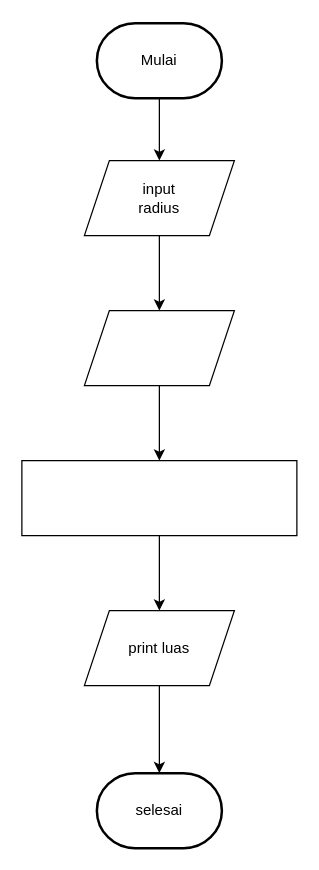
Image size: 319x870. Some labels were removed from this diagram. Here are the shapes that lost their labels. From the top down, the centre of each, then its label:
At [158,347]: "input pi".
At [159,497]: "luas <- pi * radius^2".
